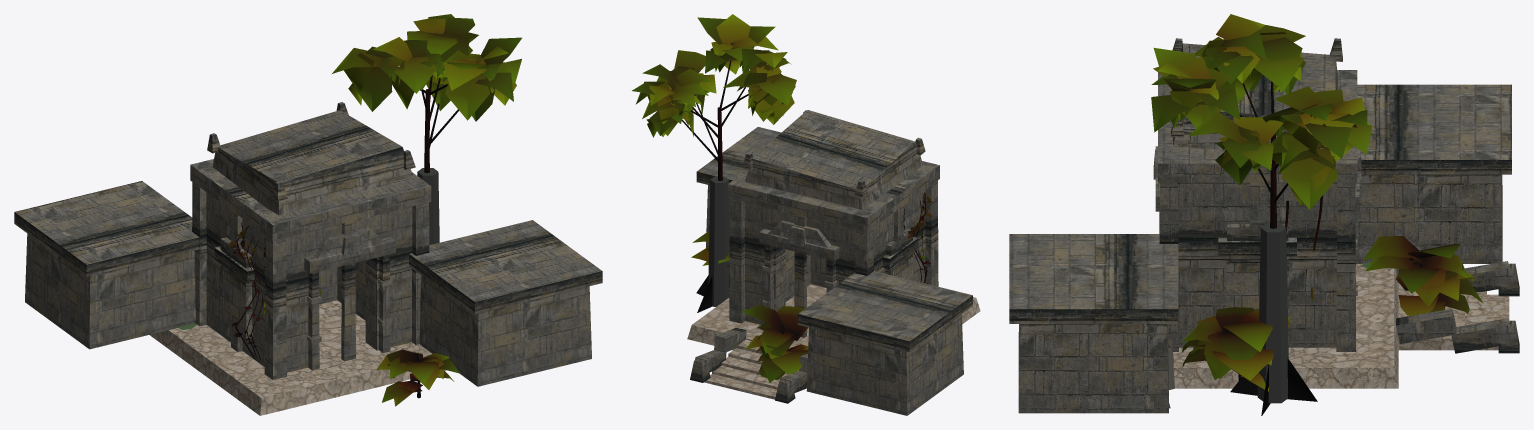
File: prasat_ruin_07.glb
3 views of the same model, side by side, from view 1: azimuth 30°, elevation 25°; view 2: azimuth 150°, elevation 25°; view 3: azimuth 270°, elevation 25° (orthographic). The views are drawn at different scales.
Parts seen in each view (by area): view 1: prasat_ruin_07, prasat_ruin_07_veg_00_broadleaf_c, prasat_ruin_07_veg_10_bush_a, prasat_ruin_07-col; view 2: prasat_ruin_07, prasat_ruin_07_veg_00_broadleaf_c, prasat_ruin_07_veg_09_bush_b, prasat_ruin_07-col, prasat_ruin_07_veg_08_bush_c; view 3: prasat_ruin_07, prasat_ruin_07_veg_00_broadleaf_c, prasat_ruin_07_veg_09_bush_b, prasat_ruin_07_veg_08_bush_c, prasat_ruin_07-col.
Boxes of the visible parts, x1,y1,x2,y2 form: prasat_ruin_07: (14,102,602,415); prasat_ruin_07_veg_00_broadleaf_c: (332,14,521,173); prasat_ruin_07_veg_10_bush_a: (377,349,459,406); prasat_ruin_07-col: (417,168,439,244); prasat_ruin_07: (687,110,980,415); prasat_ruin_07_veg_00_broadleaf_c: (632,14,796,312); prasat_ruin_07_veg_09_bush_b: (741,305,808,382); prasat_ruin_07-col: (708,176,729,306); prasat_ruin_07_veg_08_bush_c: (691,231,729,267); prasat_ruin_07: (1009,38,1519,413); prasat_ruin_07_veg_00_broadleaf_c: (1151,14,1372,415); prasat_ruin_07_veg_09_bush_b: (1363,236,1483,315); prasat_ruin_07_veg_08_bush_c: (1181,307,1290,391); prasat_ruin_07-col: (1257,223,1288,403).
Size of the model in its own units: 8.91 by 6.33 by 8.3.
Materials: 14 (14 with a texture image).
